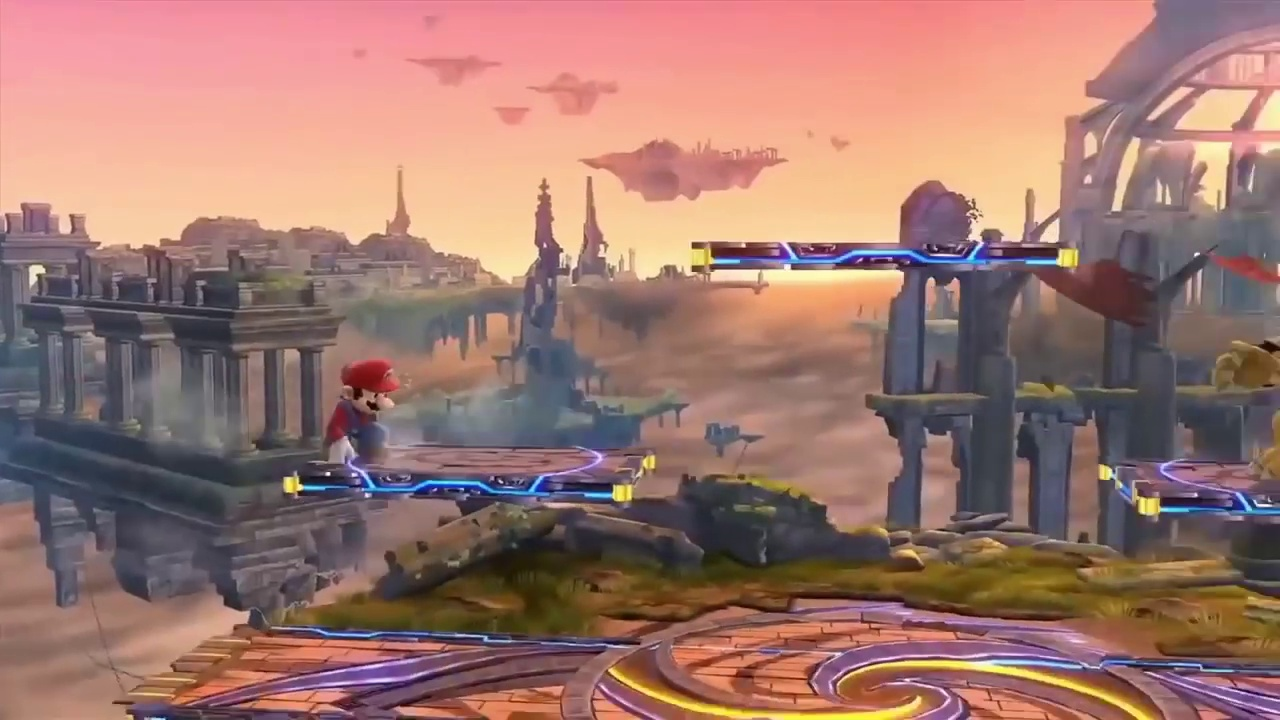Mario: (323, 362, 404, 468)
